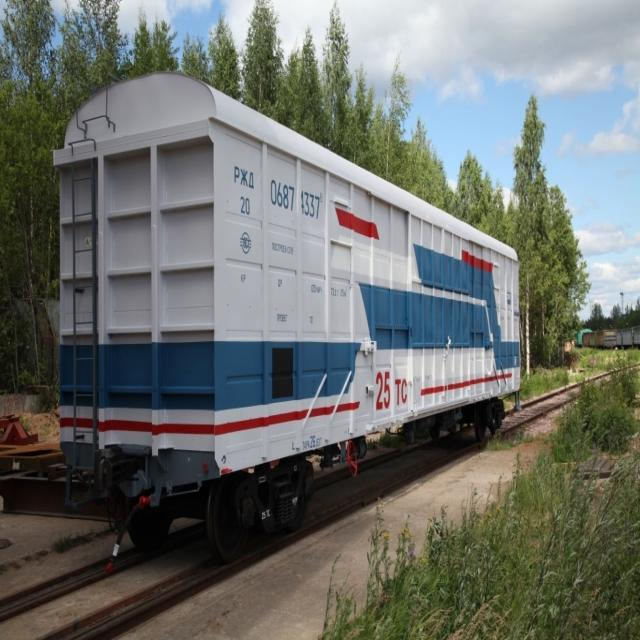boxcar: (46, 69, 524, 566)
